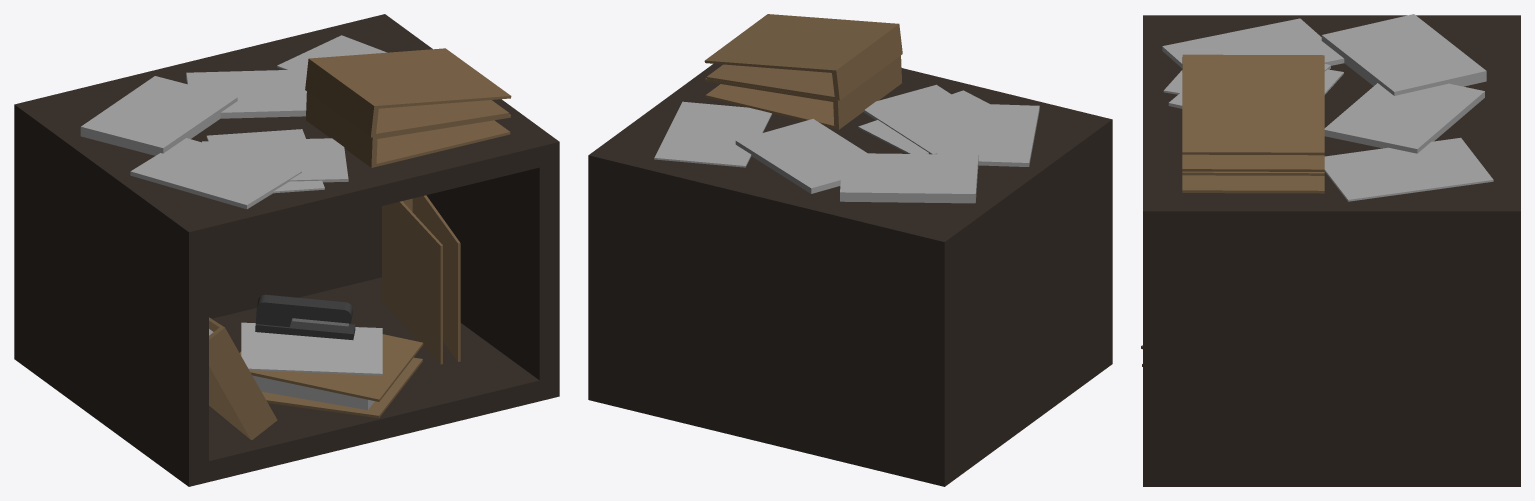
File: UnorganizedFilingShelf.fbx
3 views of the same model, side by side, from view 1: azimuth 30°, elevation 25°; view 2: azimuth 150°, elevation 25°; view 3: azimuth 270°, elevation 25° (orthographic). The views are drawn at different scales.
Parts seen in each view (by area): view 1: UnorganizedFilingShelf1; view 2: UnorganizedFilingShelf1; view 3: UnorganizedFilingShelf1.
Part boxes in pixels (x1,y1,x2,y2): UnorganizedFilingShelf1: (14, 14, 559, 486); UnorganizedFilingShelf1: (588, 14, 1112, 486); UnorganizedFilingShelf1: (1141, 14, 1520, 486).
Size of the model in its own units: 0.5659 by 0.4636 by 0.4641.
